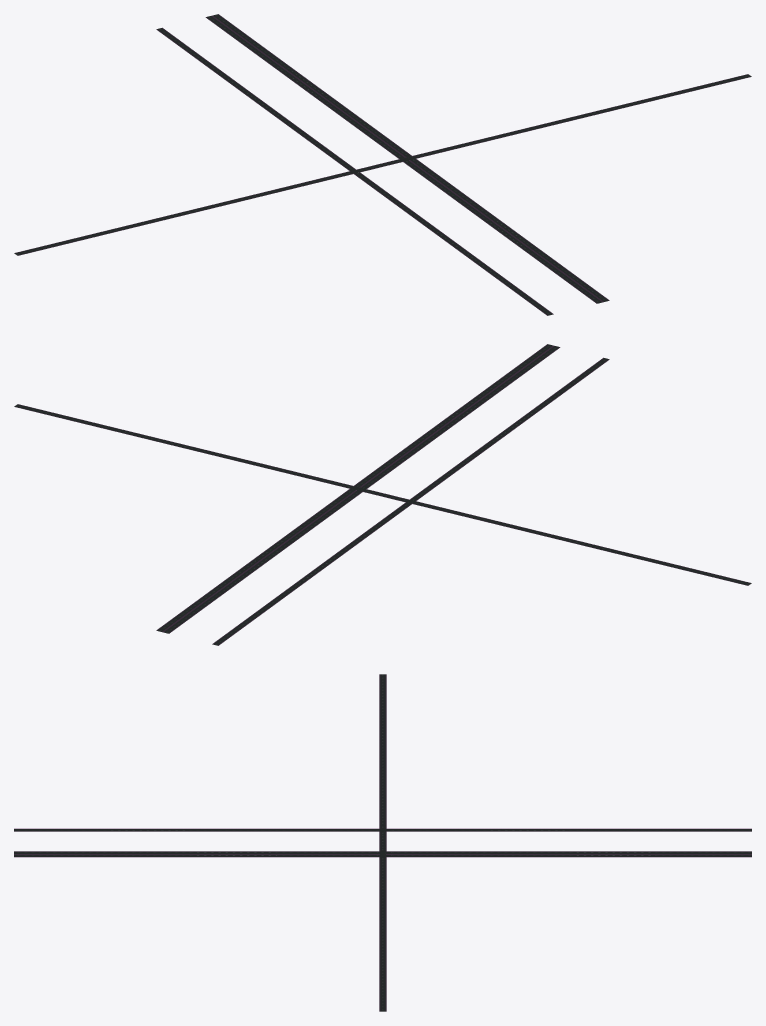
File: obj_city_roads.obj
The picture shows the model from 3 angles, top to bottom: view 1: azimuth 30°, elevation 25°; view 2: azimuth 150°, elevation 25°; view 3: azimuth 270°, elevation 25°; orthographic projection. The views are drawn at different scales.
Parts seen in each view (by area): view 1: Cube.059; view 2: Cube.059; view 3: Cube.059.
Boxes of the visible parts, box(x1,y1,x2,y2) form: Cube.059: box(14, 14, 751, 315); Cube.059: box(14, 344, 751, 645); Cube.059: box(14, 674, 751, 1011).
Bounding box in the file's own units: 223 × 0.0175 × 206.
Materials: 1 (1 with a texture image).
